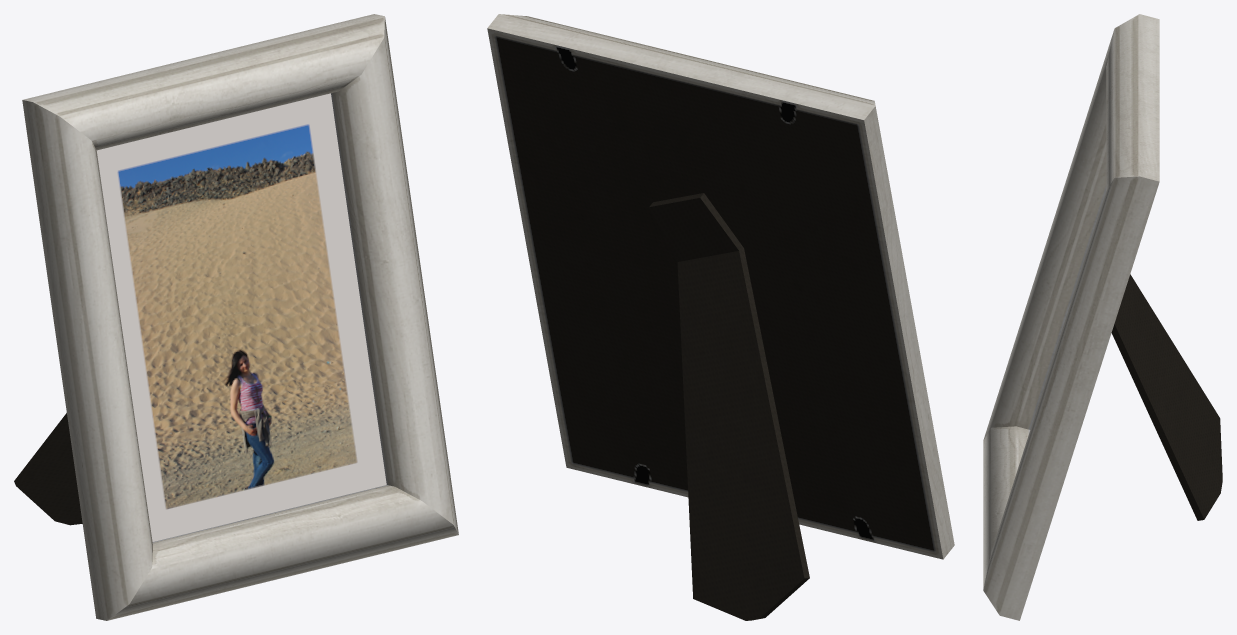
Rendered from PhotoFrameD.FBX.
The picture shows the model from 3 angles, left to right: view 1: azimuth 30°, elevation 25°; view 2: azimuth 150°, elevation 25°; view 3: azimuth 270°, elevation 25°; orthographic projection. The views are drawn at different scales.
Visible parts, largest first — view 1: PhotoFrameD; view 2: PhotoFrameD; view 3: PhotoFrameD.
Part boxes in pixels (box(x1,y1,x2,y2)): PhotoFrameD: box(14, 14, 458, 620); PhotoFrameD: box(487, 14, 954, 620); PhotoFrameD: box(983, 14, 1222, 620).
Bounding box in the file's own units: 6.3 × 8.05 × 3.93.
